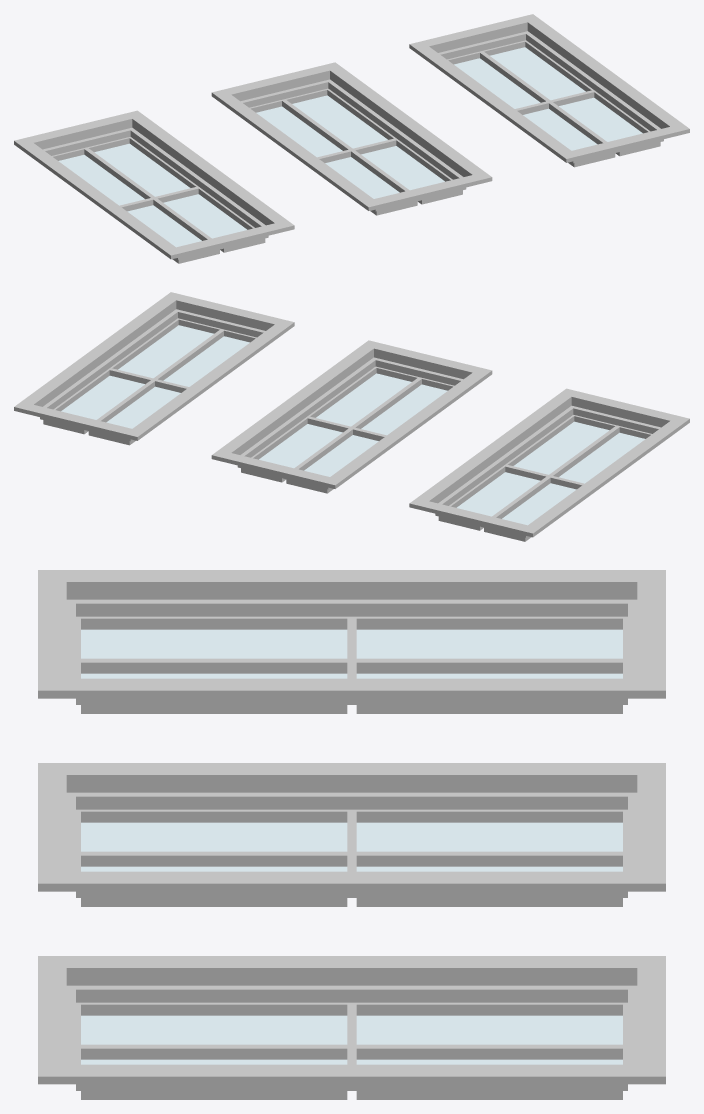
Rendered from window.obj.
3 views of the same model, one above another, from view 1: azimuth 30°, elevation 25°; view 2: azimuth 150°, elevation 25°; view 3: azimuth 270°, elevation 25° (orthographic). The views are drawn at different scales.
Visible parts, largest first — view 1: Mesh1 Model, Mesh2 Model, Mesh3 Model; view 2: Mesh1 Model, Mesh2 Model, Mesh3 Model; view 3: Mesh1 Model, Mesh2 Model, Mesh3 Model.
Part boxes in pixels (<box>): Mesh1 Model: <box>211,62,492,215</box>; Mesh2 Model: <box>14,110,294,263</box>; Mesh3 Model: <box>409,14,689,167</box>; Mesh1 Model: <box>211,340,492,493</box>; Mesh2 Model: <box>409,388,689,541</box>; Mesh3 Model: <box>14,292,294,445</box>; Mesh1 Model: <box>38,763,665,906</box>; Mesh2 Model: <box>38,570,665,713</box>; Mesh3 Model: <box>38,956,665,1099</box>.
Bounding box in the file's own units: 126 × 4.8 × 66.
